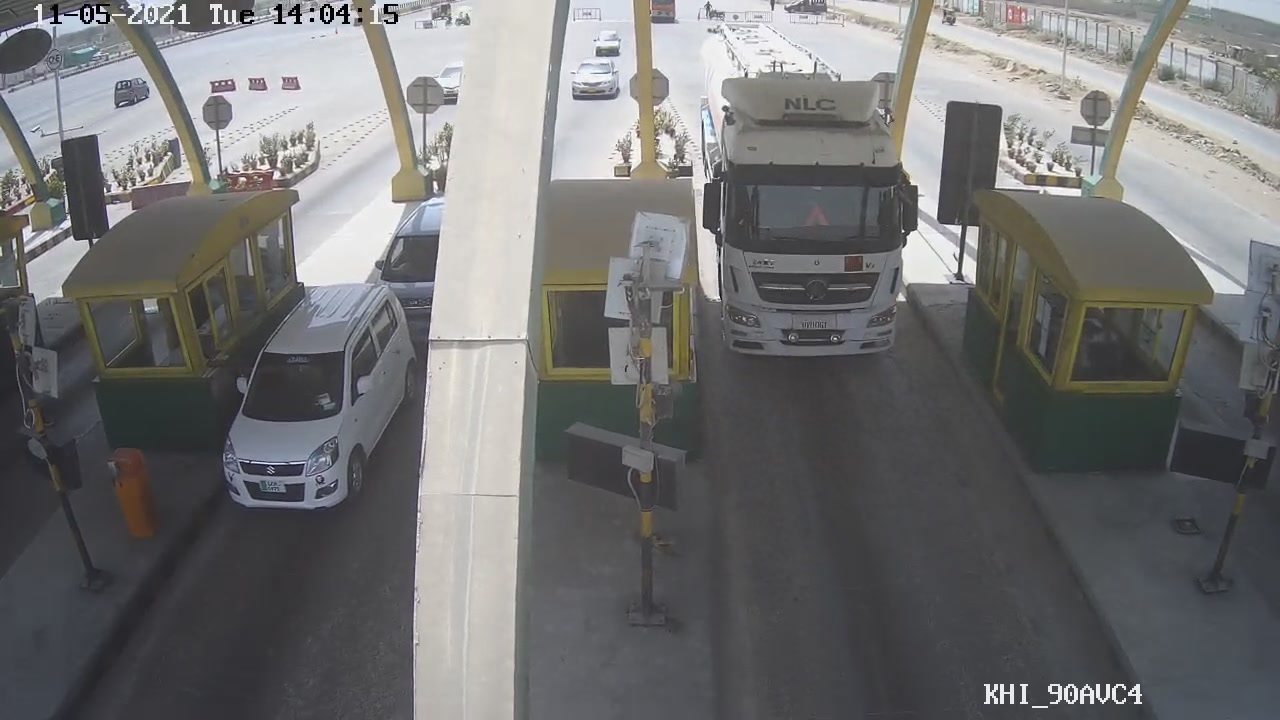F6: (695, 24, 920, 381)
